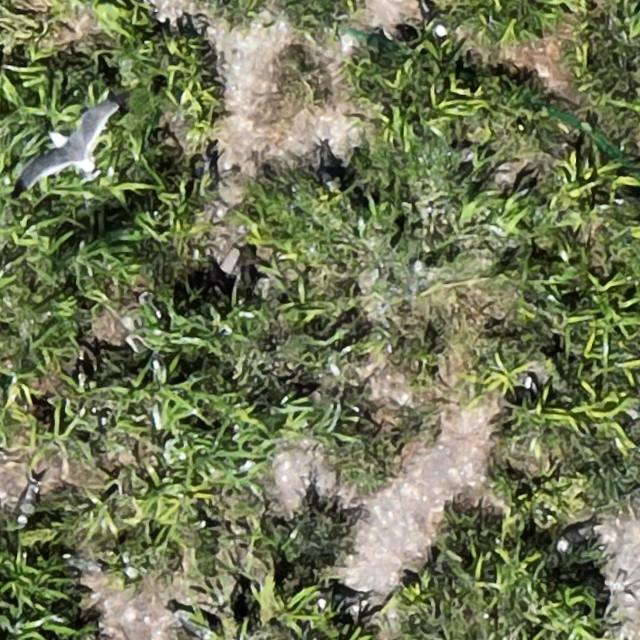F: (41, 110, 119, 184)
umineko: (426, 6, 451, 36), (558, 527, 588, 551), (19, 484, 38, 521)
